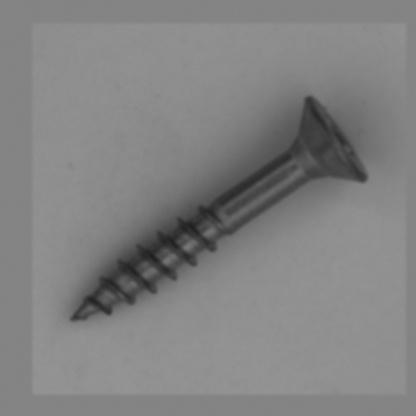metal: (67, 92, 372, 324)
